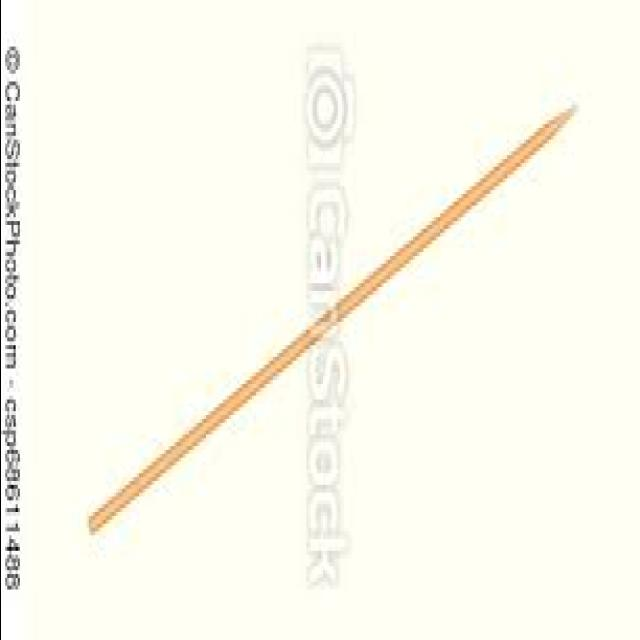stick: (88, 110, 575, 533)
